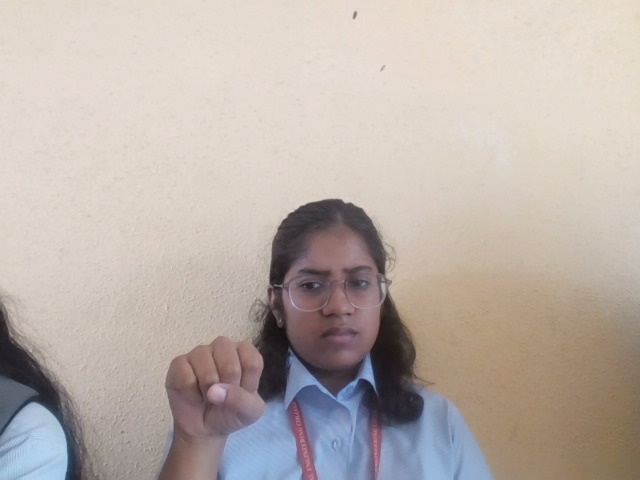Yes: (161, 334, 272, 436)
